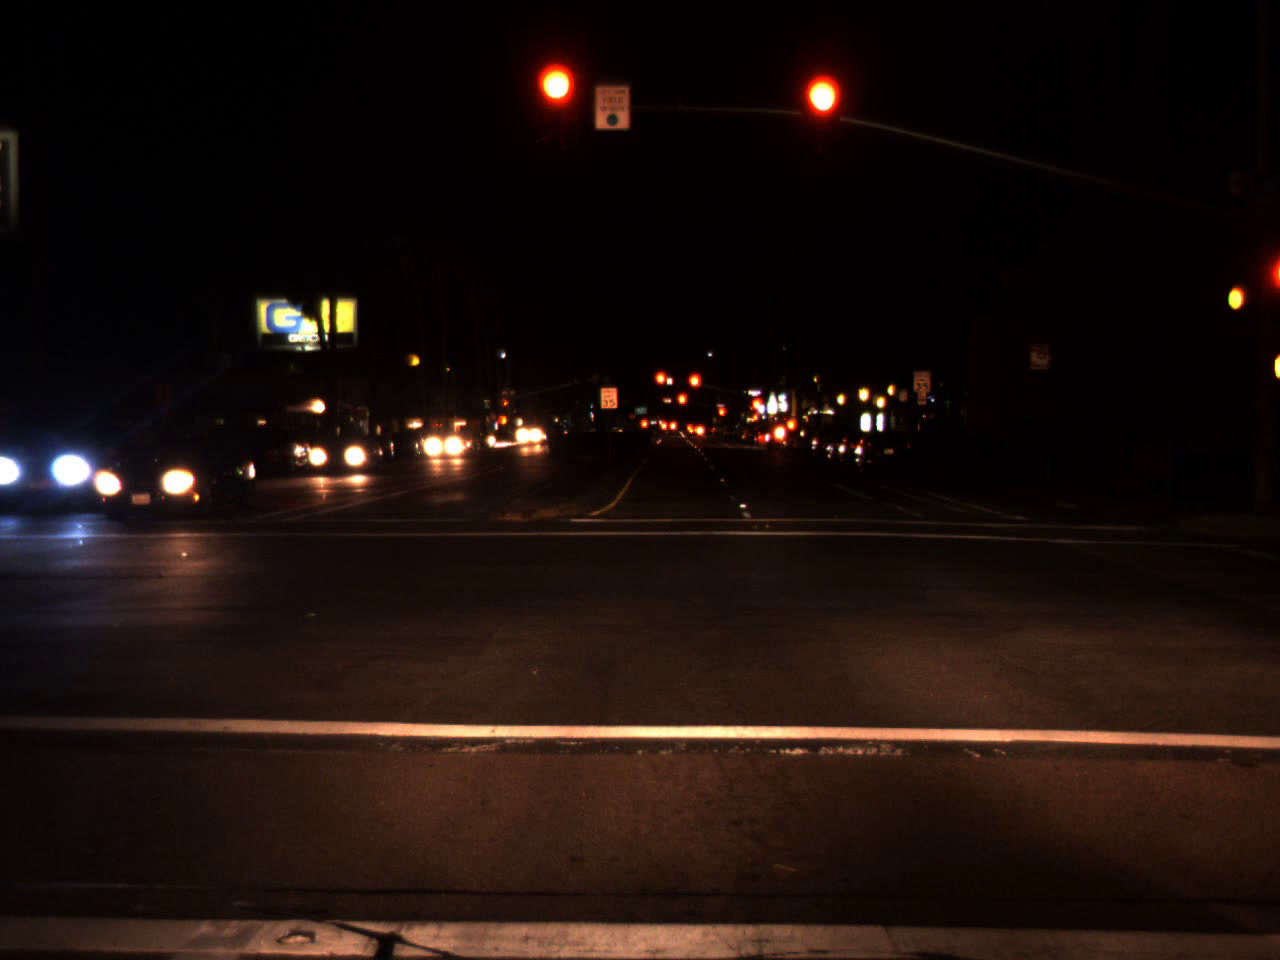stop: (537, 65, 577, 143), (801, 75, 840, 153), (686, 371, 703, 403), (653, 370, 669, 399), (750, 396, 763, 428), (676, 391, 688, 418), (717, 403, 726, 430), (503, 398, 509, 414)
